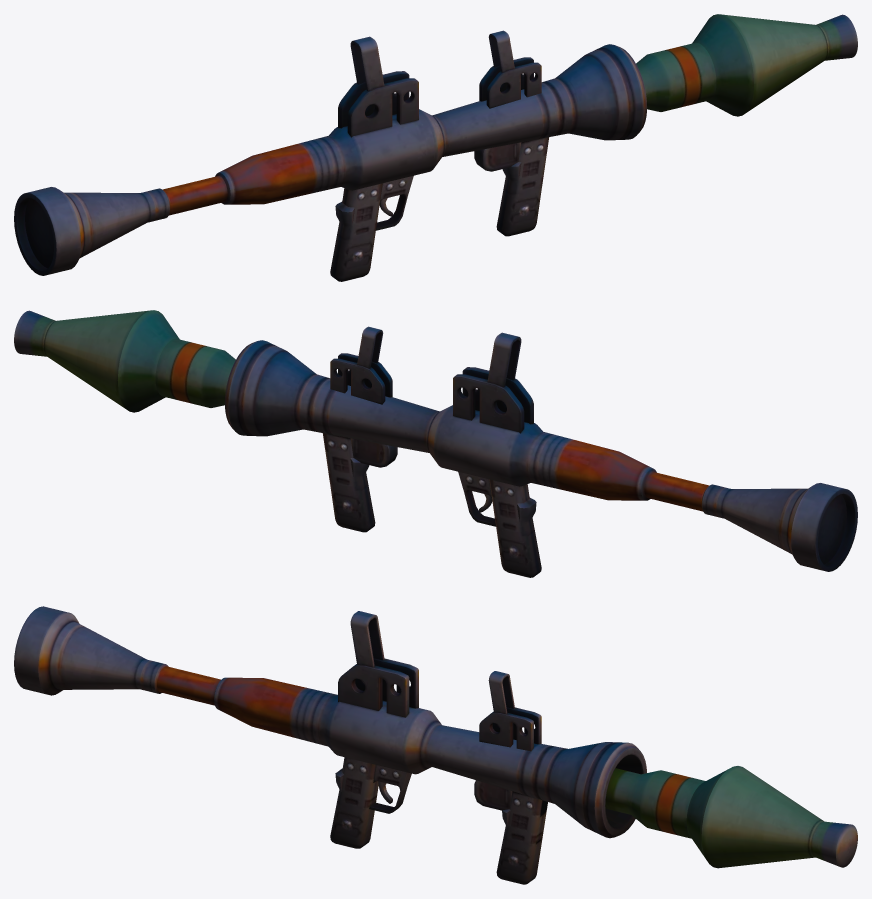
Rendered from rocket.glb.
The picture shows the model from 3 angles, top to bottom: view 1: azimuth 30°, elevation 25°; view 2: azimuth 150°, elevation 25°; view 3: azimuth 330°, elevation 25°; orthographic projection.
Parts seen in each view (by area): view 1: rocketlaucher, rocketbullet_low, rockethaut_low, rockethaut_low.001; view 2: rocketlaucher, rocketbullet_low, rockethaut_low, rockethaut_low.001; view 3: rocketlaucher, rocketbullet_low, rockethaut_low, rockethaut_low.001.
Boxes of the visible parts, x1=… form: rocketlaucher: x1=14, y1=44, x2=647, y2=281; rocketbullet_low: x1=636, y1=14, x2=857, y2=116; rockethaut_low: x1=338, y1=36, x2=418, y2=137; rockethaut_low.001: x1=479, y1=30, x2=541, y2=108; rocketlaucher: x1=224, y1=340, x2=857, y2=577; rocketbullet_low: x1=14, y1=310, x2=235, y2=412; rockethaut_low: x1=453, y1=332, x2=533, y2=433; rockethaut_low.001: x1=330, y1=326, x2=392, y2=404; rocketlaucher: x1=14, y1=606, x2=646, y2=884; rocketbullet_low: x1=605, y1=766, x2=857, y2=868; rockethaut_low: x1=338, y1=611, x2=418, y2=717; rockethaut_low.001: x1=479, y1=671, x2=541, y2=751.
Bounding box in the file's own units: 1.18 × 0.3224 × 0.1317.
1 material, 1 textured.
